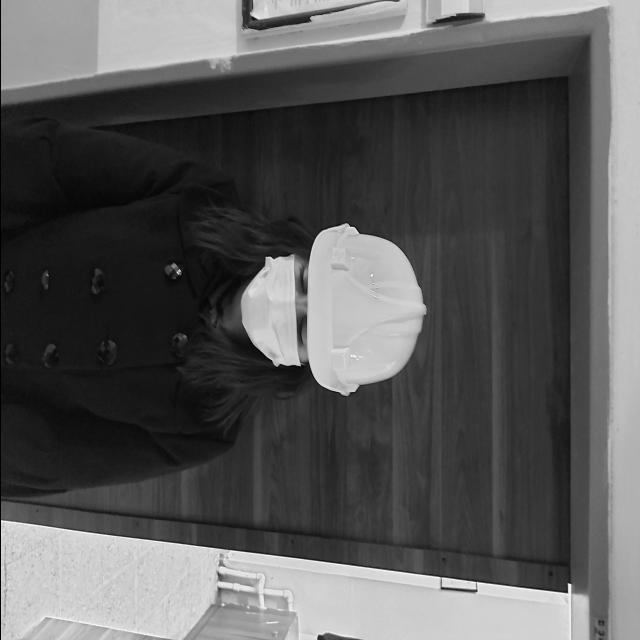safety_helmet: (300, 224, 423, 396)
